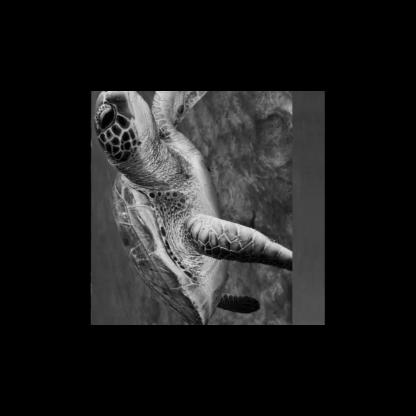turtle: (92, 90, 292, 322)
